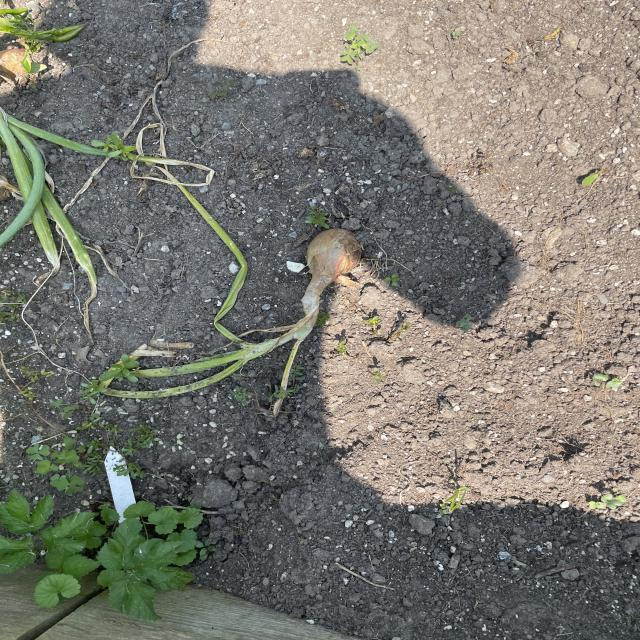Onion: (106, 210, 380, 427), (0, 47, 137, 259)
weed: (0, 465, 241, 605), (325, 24, 380, 78)
